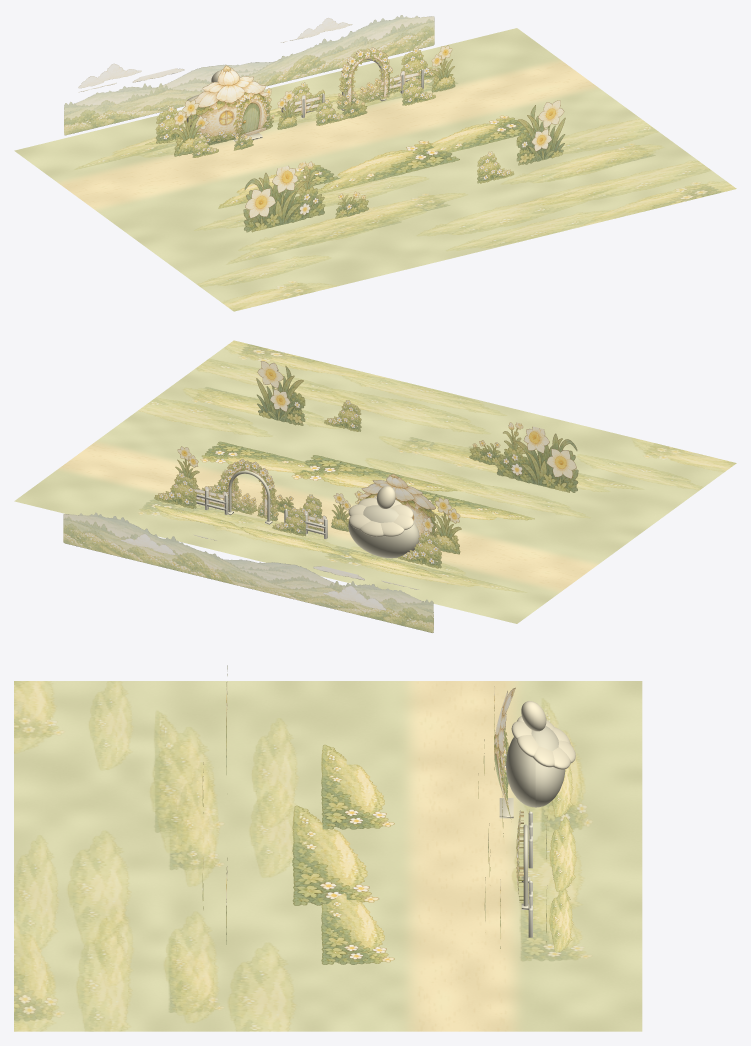
Rendered from garden_complete.glb.
3 views of the same model, one above another, from view 1: azimuth 30°, elevation 25°; view 2: azimuth 150°, elevation 25°; view 3: azimuth 270°, elevation 25° (orthographic). The views are drawn at different scales.
Parts seen in each view (by area): view 1: Ground / meadow and walking road, hills / painted relief, meadow / painted relief (×3), cottage / painted relief, flowers_left / painted relief, bush / painted relief (×4), daffodil / painted relief (×3), flowers_right / painted relief, flower_arch / painted relief, small_flowers / painted relief, cloud / painted relief, fence / painted relief; view 2: Ground / meadow and walking road, hills / painted relief, meadow / painted relief (×3), flowers_left / painted relief, bush / painted relief (×4), flowers_right / painted relief, grass_patch / painted relief (×3), Cottage / rounded masonry shell, cottage / painted relief, daffodil / painted relief (×2), flower_arch / reconstructed rear, cloud / painted relief (+1 smaller); view 3: Ground / meadow and walking road, meadow / painted relief (×3), grass_patch / painted relief (×3), Cottage / rounded masonry shell, cottage / painted relief, Roof / flower bud.
Boxes of the visible parts, x1,y1,x2,y2 form: Ground / meadow and walking road: (14, 28, 736, 311); hills / painted relief: (64, 15, 434, 135); meadow / painted relief (×3): (218, 115, 527, 208); cottage / painted relief: (191, 65, 274, 145); flowers_left / painted relief: (243, 161, 325, 232); bush / painted relief (×4): (155, 47, 514, 183); daffodil / painted relief (×3): (173, 45, 455, 156); flowers_right / painted relief: (516, 100, 565, 165); flower_arch / painted relief: (338, 47, 392, 109); small_flowers / painted relief: (335, 191, 368, 218); cloud / painted relief: (78, 63, 141, 88); fence / painted relief: (285, 89, 325, 117); Ground / meadow and walking road: (14, 340, 736, 623); hills / painted relief: (63, 512, 433, 632); meadow / painted relief (×3): (200, 441, 534, 520); flowers_left / painted relief: (496, 422, 578, 492); bush / painted relief (×4): (154, 400, 441, 568); flowers_right / painted relief: (256, 361, 305, 425); grass_patch / painted relief (×3): (155, 505, 441, 577); Cottage / rounded masonry shell: (348, 505, 419, 558); cottage / painted relief: (354, 474, 437, 550); daffodil / painted relief (×2): (331, 493, 461, 554); flower_arch / reconstructed rear: (222, 459, 277, 521); cloud / painted relief: (323, 585, 386, 610); Ground / meadow and walking road: (14, 681, 642, 1031); meadow / painted relief (×3): (292, 744, 394, 964); grass_patch / painted relief (×3): (549, 767, 576, 952); Cottage / rounded masonry shell: (506, 726, 565, 807); cottage / painted relief: (494, 687, 515, 819); Roof / flower bud: (521, 701, 546, 731).
Size of the model in its own units: 70 by 12.12 by 61.
17 materials, 13 textured.
